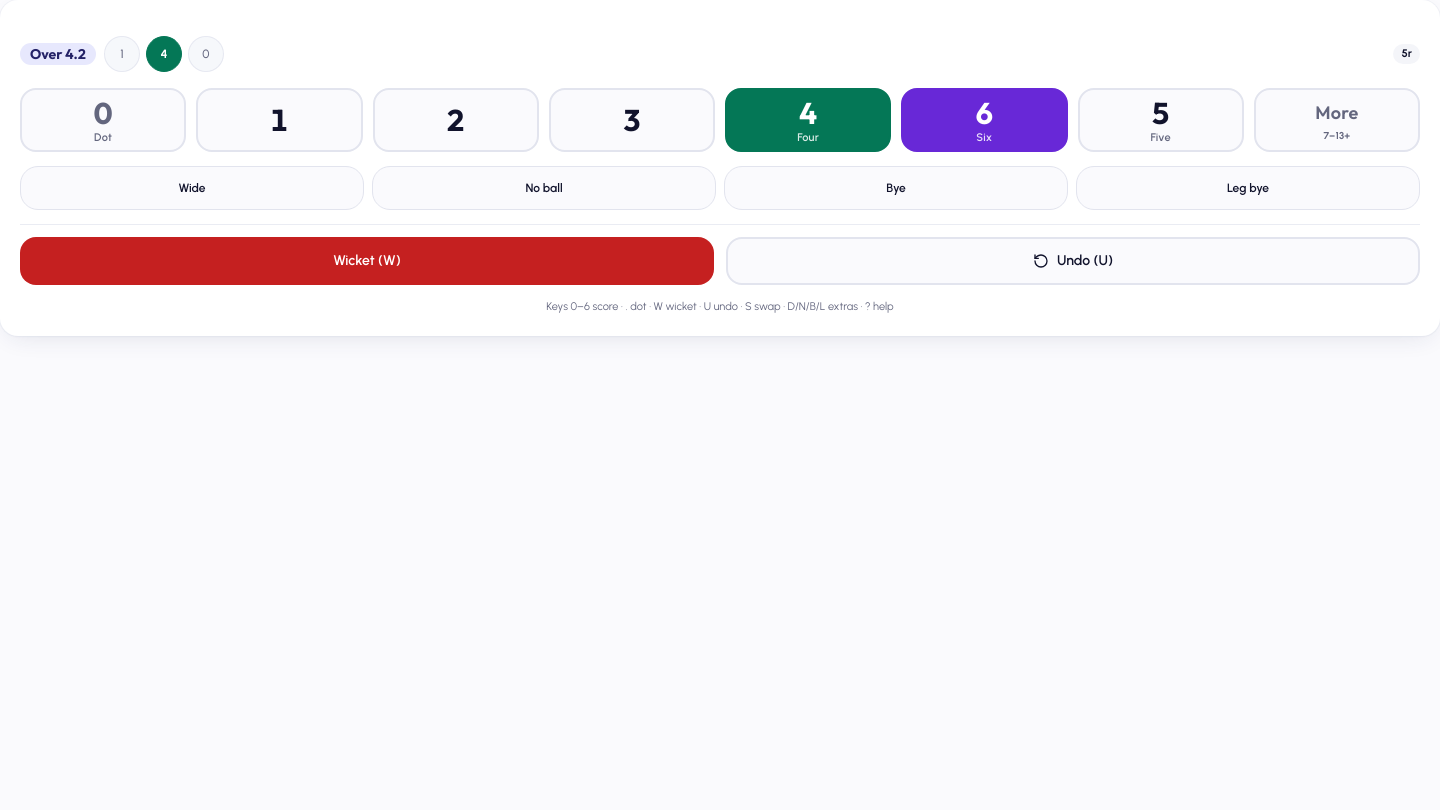
Test: ScoringPanel with Wagon Wheel selection › opens the wagon wheel selection dialog when a run button is clicked (Stumps app style)
Click the button "4 Four" at {"x": 808, "y": 120}, box left=725, top=88, right=891, bottom=152
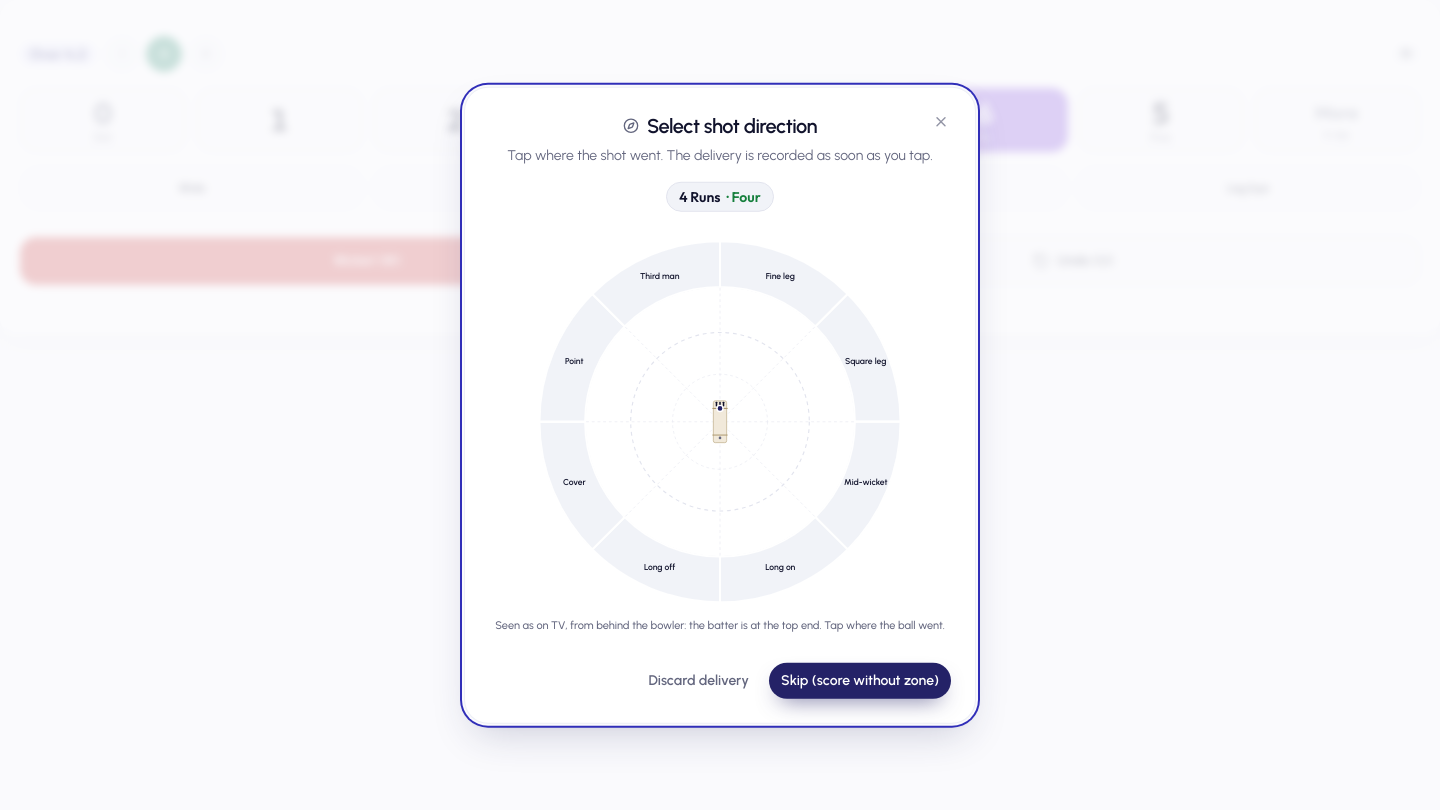
Now the heading "Select shot direction" is shown, box left=647, top=112, right=817, bottom=140
Now the text "4 Runs" is shown, box left=679, top=187, right=720, bottom=207
